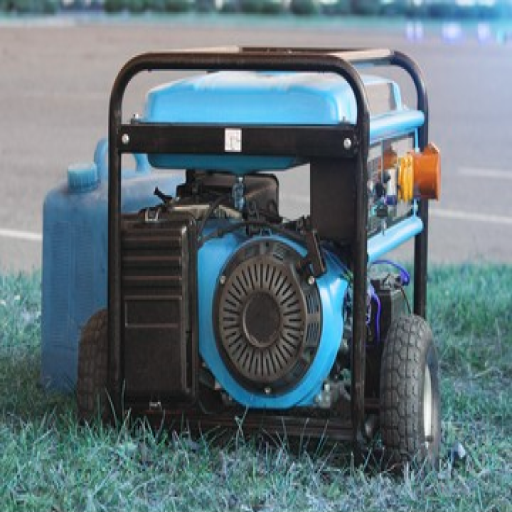portable_generator: (108, 45, 430, 445)
